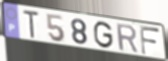5: (45, 13, 66, 44)
8: (71, 18, 90, 45)
F: (139, 25, 162, 57)
G: (93, 21, 115, 50)
R: (115, 23, 140, 55)
T: (22, 9, 41, 40)
